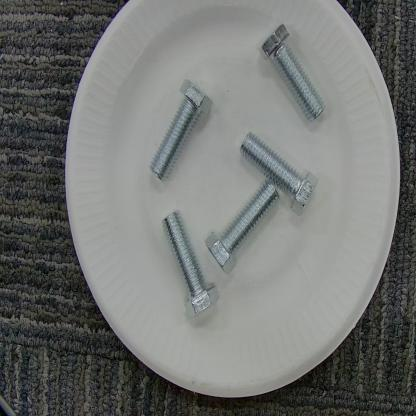FOD: (207, 132, 323, 271), (256, 20, 330, 129), (146, 79, 214, 185), (161, 210, 225, 322)
